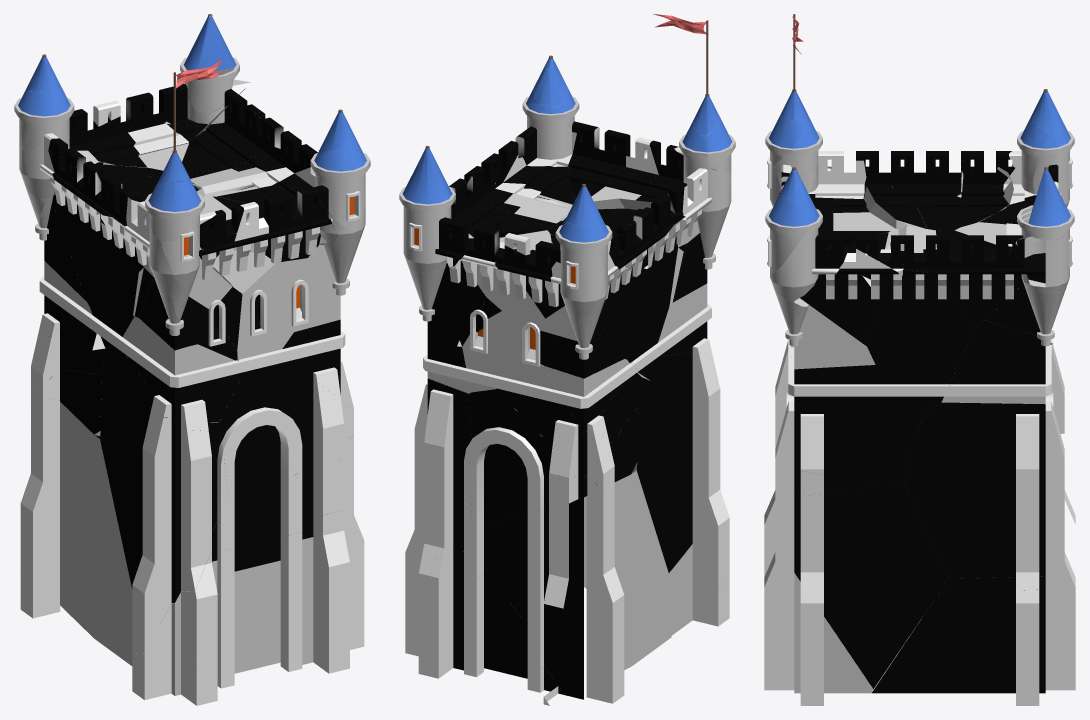
The model's file is Castle.fbx.
3 renders of one model, left to right at view 1: azimuth 30°, elevation 25°; view 2: azimuth 150°, elevation 25°; view 3: azimuth 270°, elevation 25°, orthographic. The views are drawn at different scales.
Parts seen in each view (by area): view 1: citadel_tower_b_cell.171, citadel_tower_b_cell.199, citadel_tower_b_cell.043, citadel_tower_b_cell.048, citadel_tower_b_cell.041, citadel_tower_b_cell.192, citadel_tower_b_cell.191, citadel_tower_b_cell.026, citadel_tower_b_cell.188, citadel_tower_b_cell.172, citadel_tower_b_cell.066, citadel_tower_b_cell.190 (+53 smaller); view 2: citadel_tower_b_cell.171, citadel_tower_b_cell.199, citadel_tower_b_cell.135, citadel_tower_b_cell.041, citadel_tower_b_cell.027, citadel_tower_b_cell.026, citadel_tower_b_cell.103, citadel_tower_b_cell.137, citadel_tower_b_cell.115, citadel_tower_b_cell.136, citadel_tower_b_cell.068, citadel_tower_b_cell.001 (+54 smaller); view 3: citadel_tower_b_cell.136, citadel_tower_b_cell.048, citadel_tower_b_cell.027, citadel_tower_b_cell.043, citadel_tower_b_cell.035, citadel_tower_b_cell.170, citadel_tower_b_cell.191, citadel_tower_b_cell.032, citadel_tower_b_cell.115, citadel_tower_b_cell.102, citadel_tower_b_cell.137, citadel_tower_b_cell.002 (+41 smaller).
Part boxes in pixels (x1,y1,x2,y2): citadel_tower_b_cell.171: [100, 346, 220, 653]; citadel_tower_b_cell.199: [49, 369, 226, 665]; citadel_tower_b_cell.043: [219, 362, 343, 507]; citadel_tower_b_cell.048: [212, 436, 360, 571]; citadel_tower_b_cell.041: [20, 385, 60, 618]; citadel_tower_b_cell.192: [160, 537, 313, 695]; citadel_tower_b_cell.191: [313, 510, 349, 673]; citadel_tower_b_cell.026: [88, 184, 205, 350]; citadel_tower_b_cell.188: [280, 532, 364, 671]; citadel_tower_b_cell.172: [181, 422, 211, 591]; citadel_tower_b_cell.066: [133, 14, 250, 141]; citadel_tower_b_cell.190: [181, 553, 217, 705]; citadel_tower_b_cell.171: [632, 351, 729, 590]; citadel_tower_b_cell.199: [469, 365, 671, 669]; citadel_tower_b_cell.135: [463, 472, 633, 699]; citadel_tower_b_cell.041: [586, 485, 624, 703]; citadel_tower_b_cell.027: [405, 542, 564, 705]; citadel_tower_b_cell.026: [551, 198, 685, 380]; citadel_tower_b_cell.103: [495, 373, 641, 484]; citadel_tower_b_cell.137: [422, 389, 453, 558]; citadel_tower_b_cell.115: [418, 551, 453, 678]; citadel_tower_b_cell.136: [409, 378, 471, 552]; citadel_tower_b_cell.068: [468, 427, 543, 529]; citadel_tower_b_cell.001: [568, 124, 630, 199]; citadel_tower_b_cell.136: [905, 402, 1045, 590]; citadel_tower_b_cell.048: [775, 485, 948, 688]; citadel_tower_b_cell.027: [871, 576, 1045, 705]; citadel_tower_b_cell.043: [775, 377, 923, 492]; citadel_tower_b_cell.035: [867, 225, 974, 412]; citadel_tower_b_cell.170: [949, 320, 1050, 385]; citadel_tower_b_cell.191: [764, 542, 794, 690]; citadel_tower_b_cell.032: [793, 232, 888, 346]; citadel_tower_b_cell.115: [1045, 561, 1075, 690]; citadel_tower_b_cell.102: [781, 351, 904, 438]; citadel_tower_b_cell.137: [1045, 401, 1069, 572]; citadel_tower_b_cell.002: [794, 305, 875, 369].
Bounding box in the file's own units: 1463 × 3964 × 1858.
